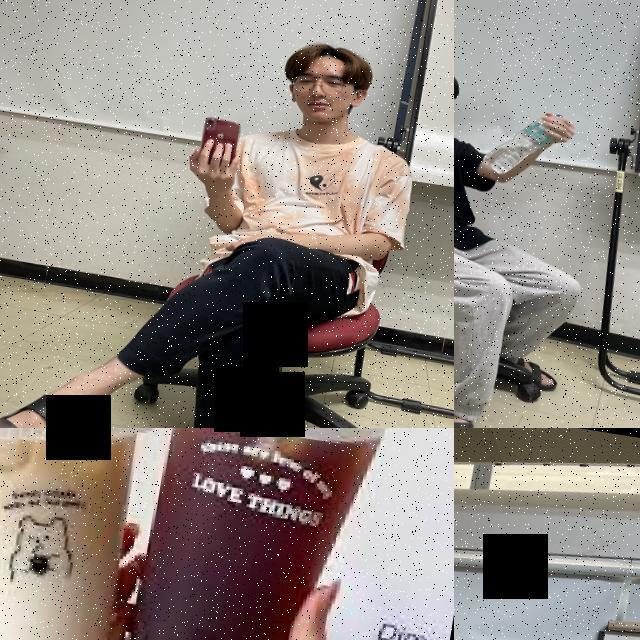bottle: (479, 100, 566, 184)
cup: (107, 428, 421, 640), (0, 428, 160, 640)
